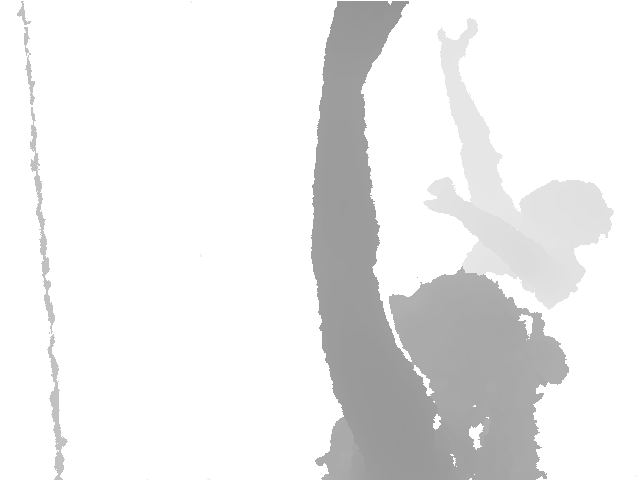hand: (321, 1, 411, 63), (437, 18, 480, 69)
head: (387, 270, 529, 429), (518, 178, 613, 248)
person: (308, 1, 569, 479), (422, 18, 613, 309)
